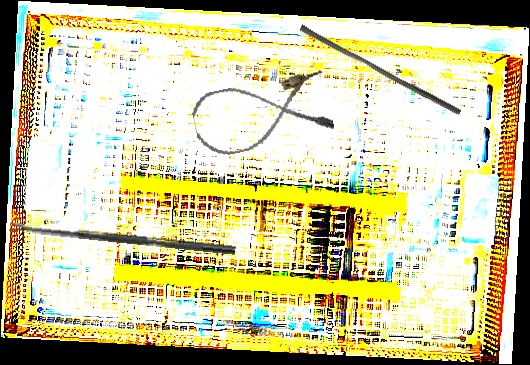Cannula: (188, 68, 336, 161)
Pusher: (296, 24, 465, 116)
Surgical Spoon: (9, 221, 236, 255)
